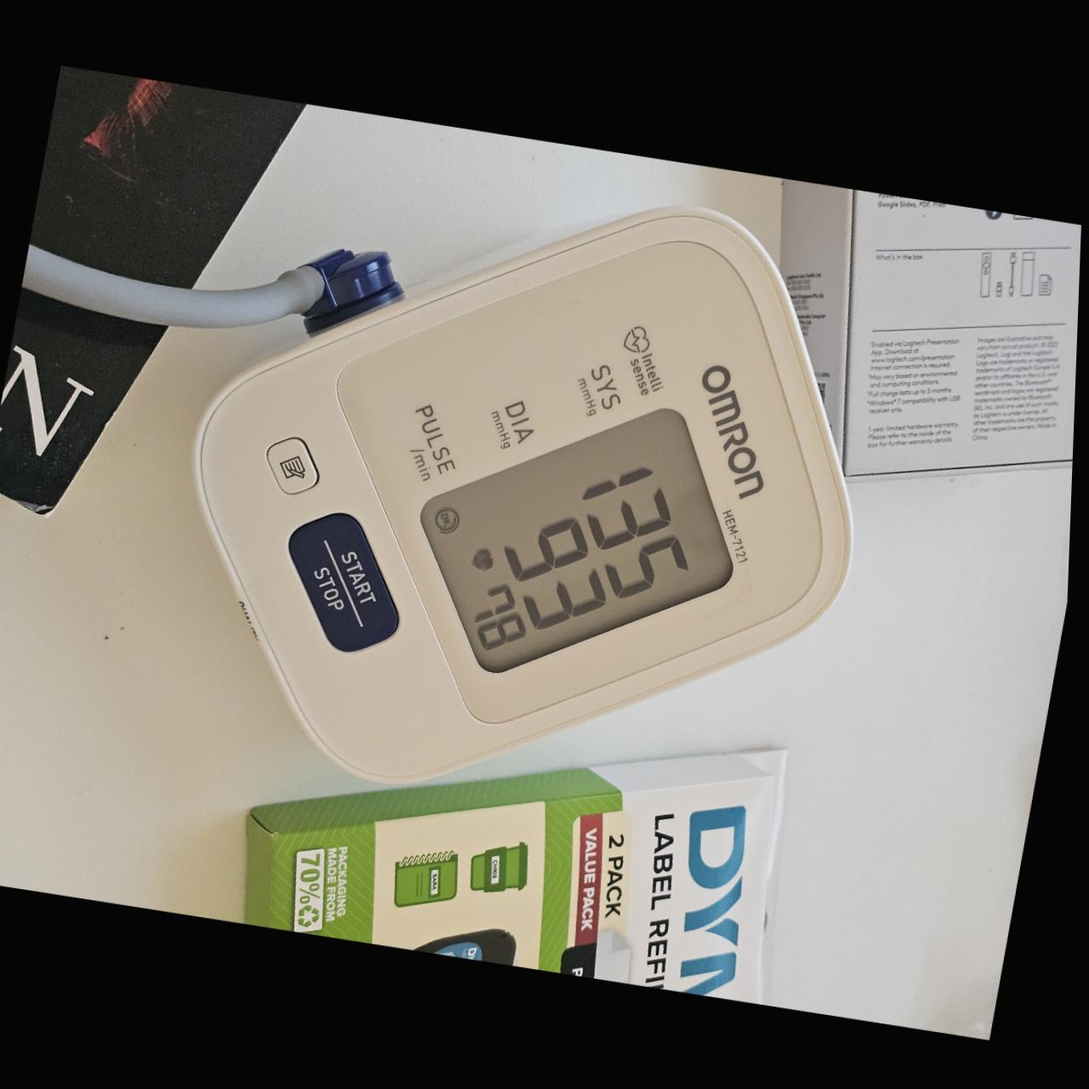blood pressure monitor: (137, 135, 910, 856)
